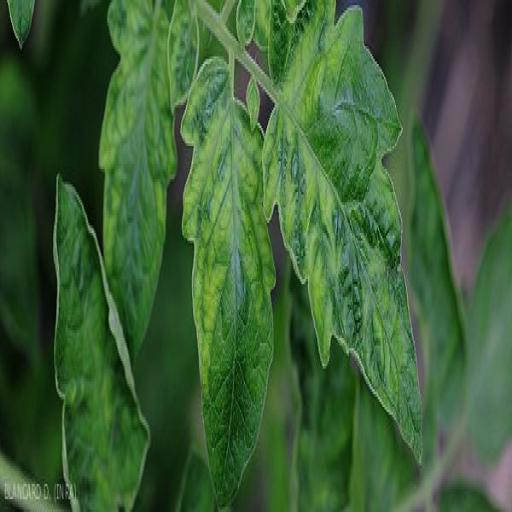Mosaic Virus: (260, 0, 422, 468), (180, 46, 276, 512), (52, 173, 149, 512), (99, 0, 177, 364)
